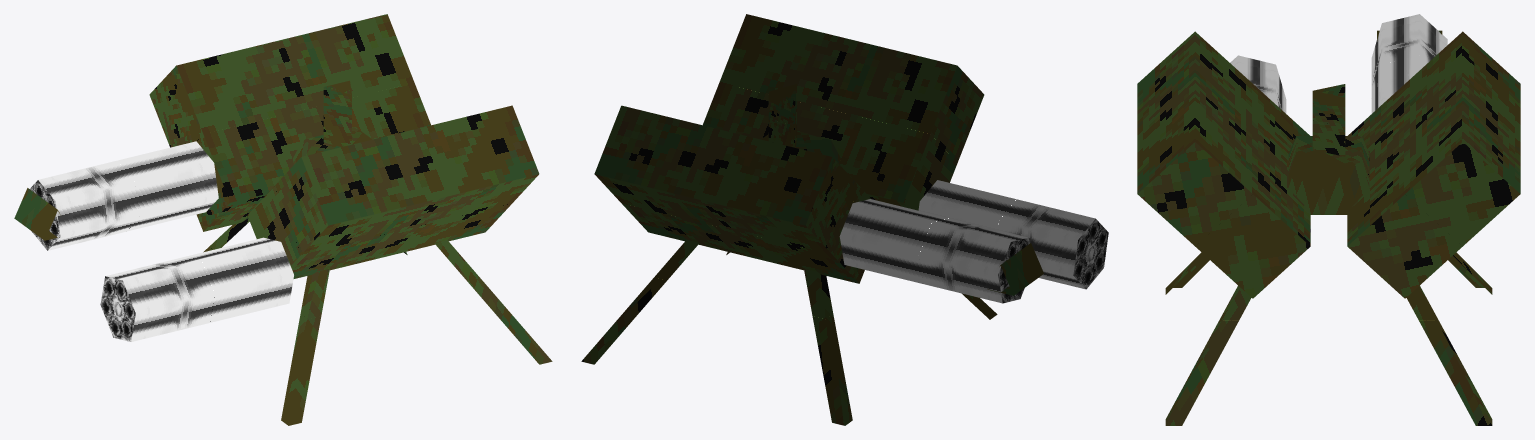
Rendered from PgroundgunZ.obj.
3 views of the same model, side by side, from view 1: azimuth 30°, elevation 25°; view 2: azimuth 150°, elevation 25°; view 3: azimuth 270°, elevation 25° (orthographic). The views are drawn at different scales.
Bounding box in the file's own units: 1550 × 914 × 1174.
3 materials, 3 textured.
